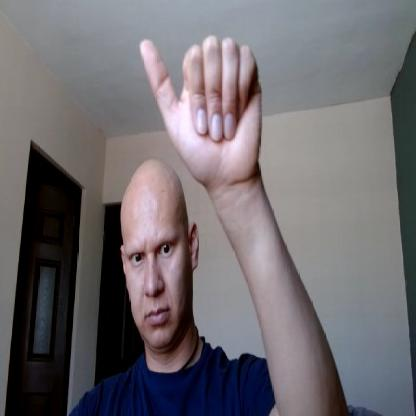A: (138, 31, 263, 188)
